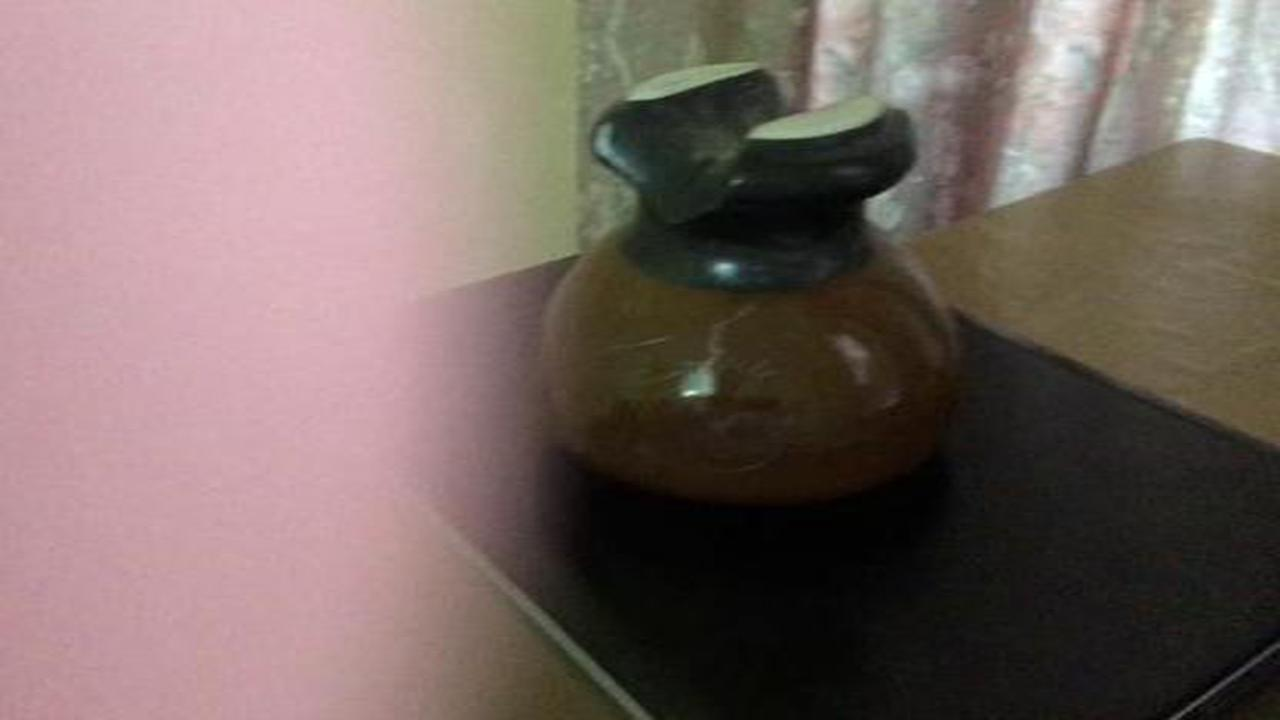insulator_pin: (504, 42, 988, 528)
